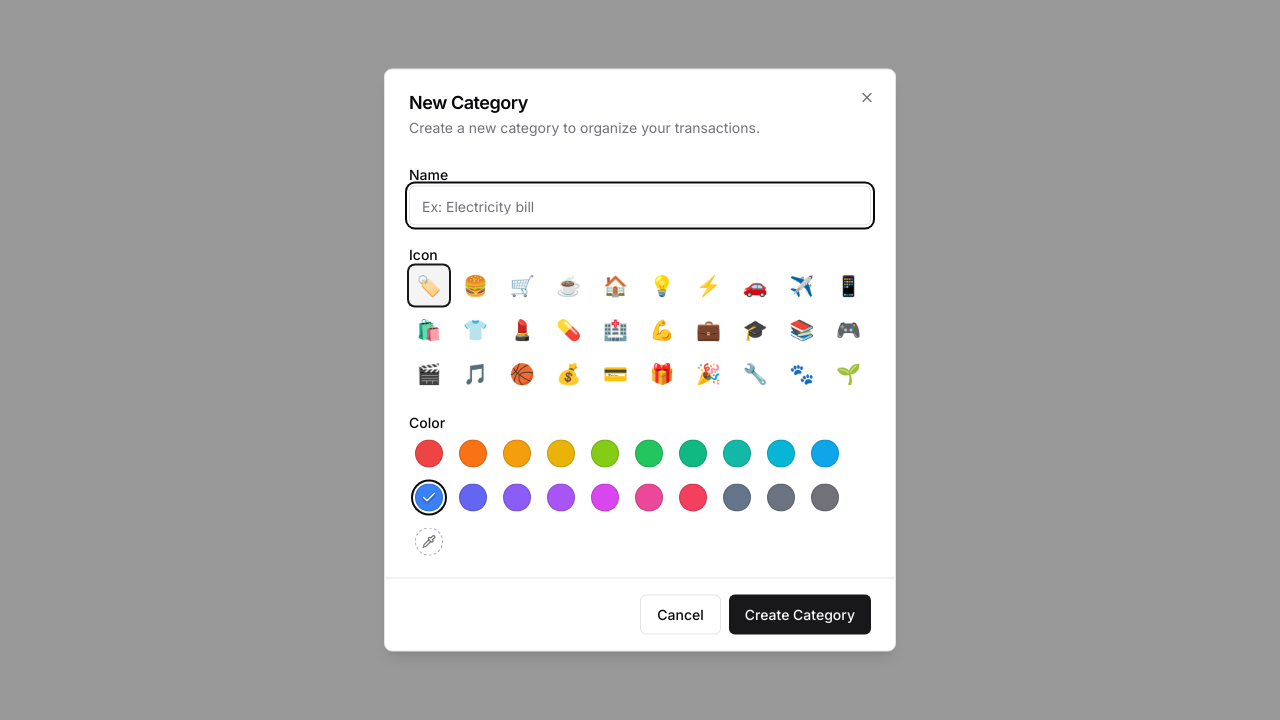
Scenario: CategoryFormModal › shows a spinner and disables the buttons while submitting
Type "Test" into the field labelled "Name" at (640,206), box [409,186,871,226]
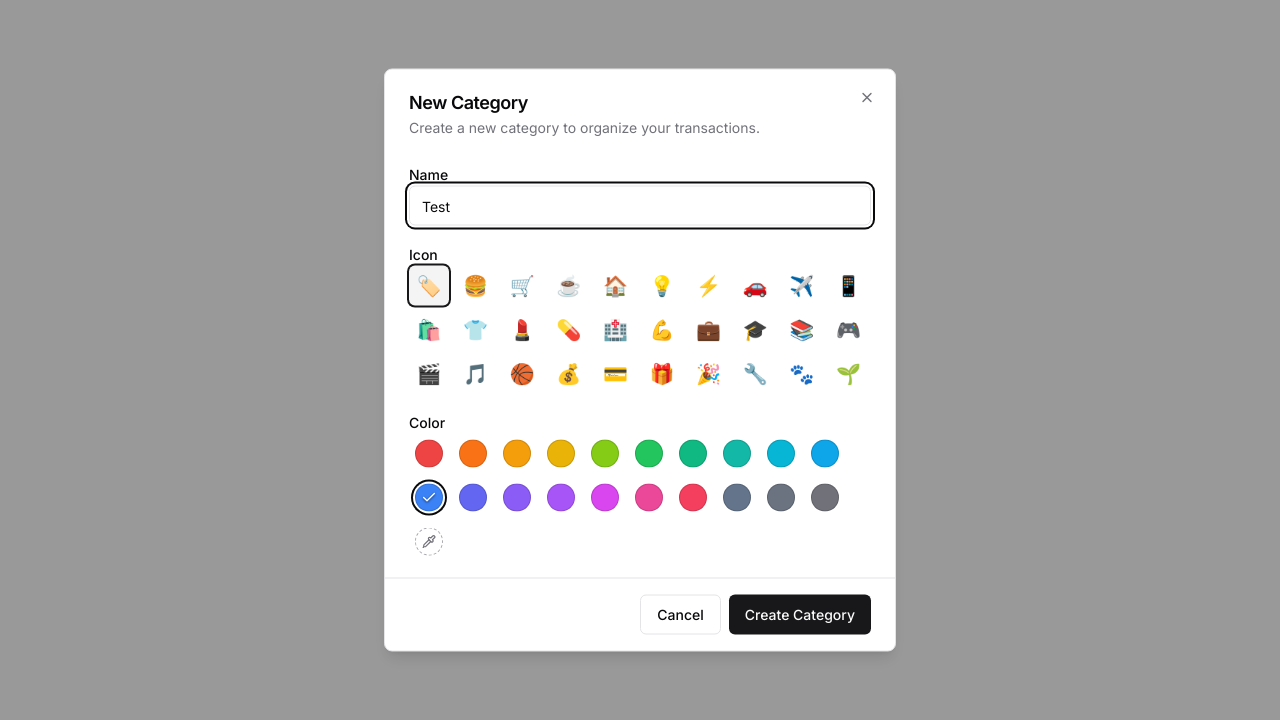
Click the button "Create Category" at (800,614), box [729,594,871,634]
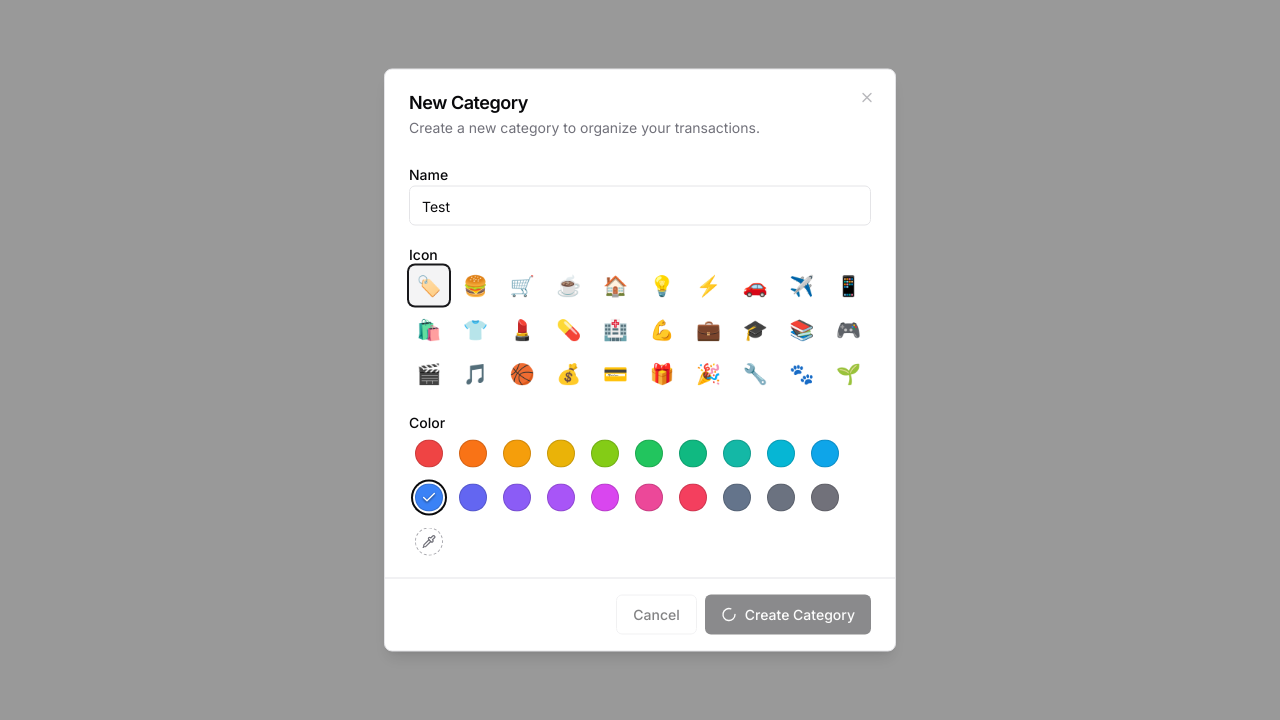
Now the button "Create Category" is disabled, box [705,594,871,634]
Now the icon with class "animate-spin" is shown, box [721,606,737,622]
Now the button "Cancel" is disabled, box [616,594,697,634]
